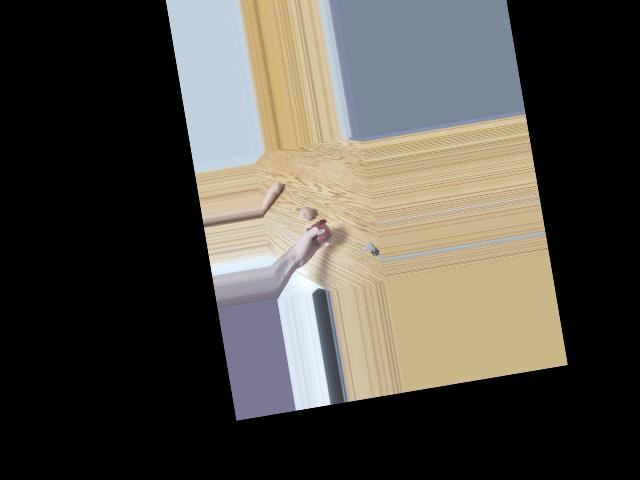onion: (294, 206, 315, 227)
